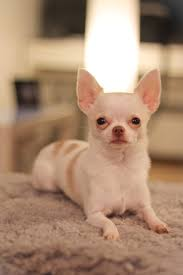chihuahua: (20, 52, 183, 266)
